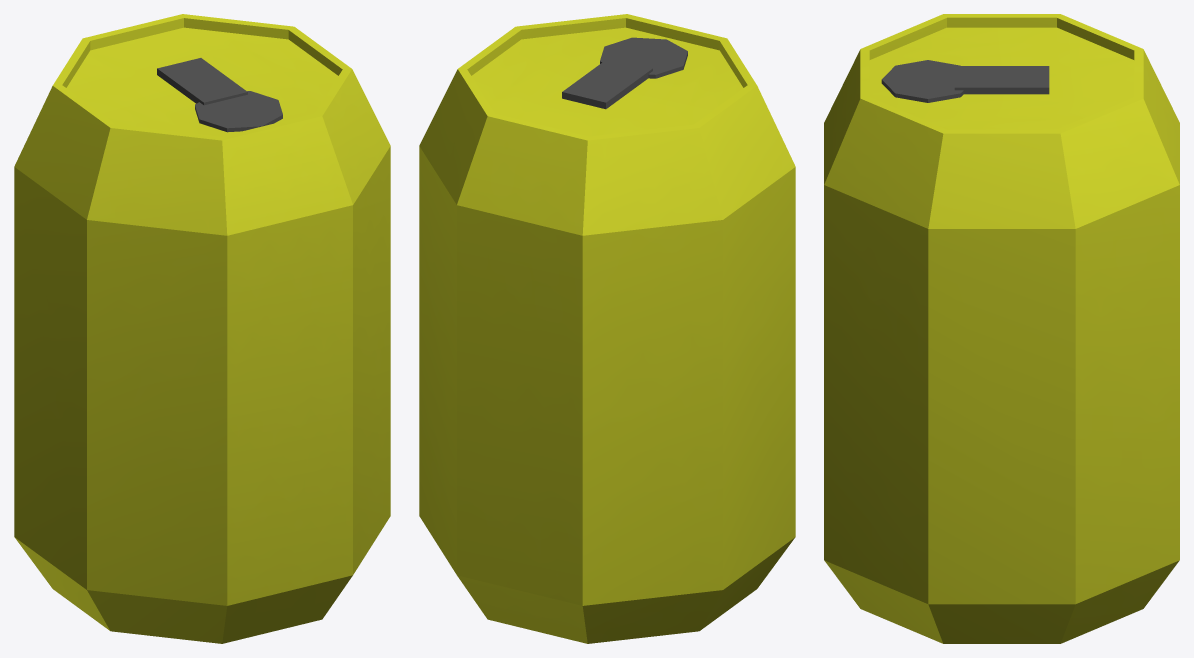
Rendered from Bottle_yellow_1.fbx.
3 views of the same model, side by side, from view 1: azimuth 30°, elevation 25°; view 2: azimuth 150°, elevation 25°; view 3: azimuth 270°, elevation 25° (orthographic).
Parts seen in each view (by area): view 1: Bottle_yellow; view 2: Bottle_yellow; view 3: Bottle_yellow.
Part boxes in pixels (left/top/right/bottom): Bottle_yellow: left=14, top=14, right=390, bottom=643; Bottle_yellow: left=419, top=14, right=795, bottom=643; Bottle_yellow: left=824, top=14, right=1179, bottom=643.
Size of the model in its own units: 5.15 by 8.15 by 5.15.
